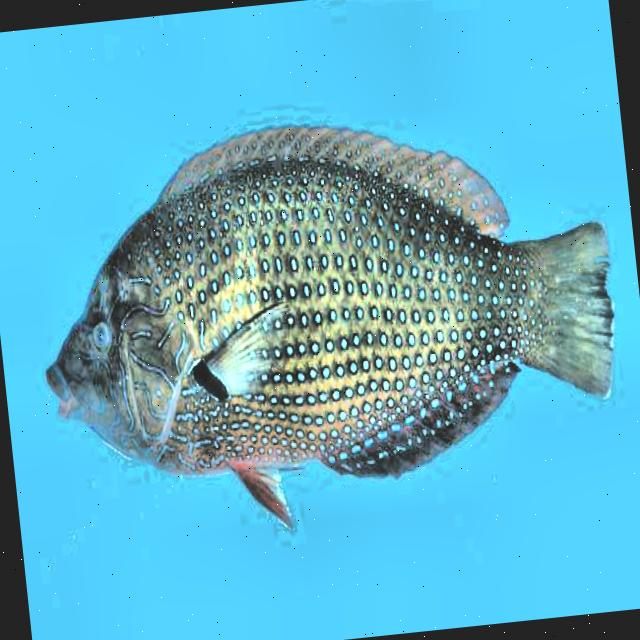fish: (22, 90, 636, 556)
